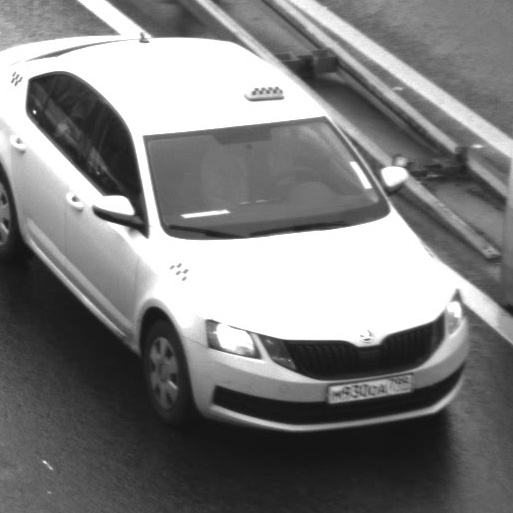plate: (318, 365, 420, 409)
